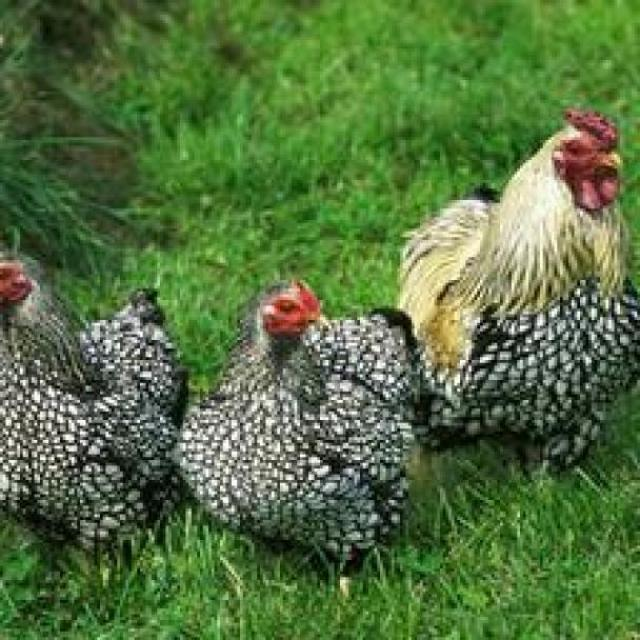Chicken: (389, 102, 640, 476), (199, 264, 437, 565), (0, 242, 185, 569)
